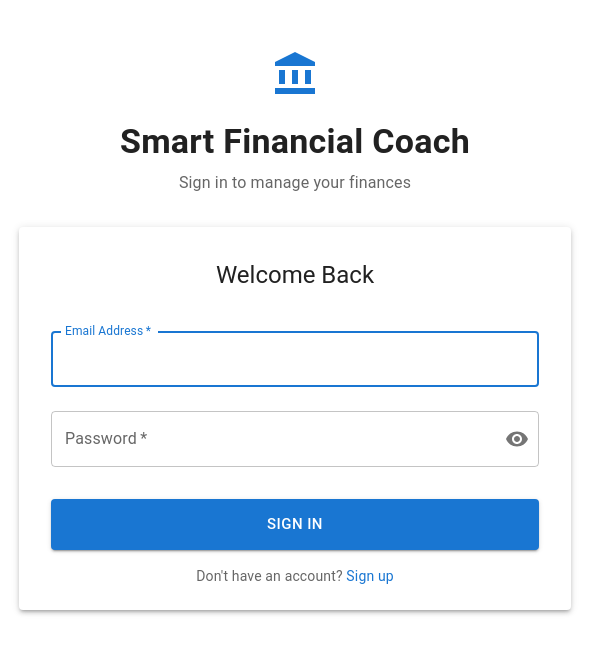
Login Component › displays error message on login failure
Type "wrong@example.com" into the field labelled "Email Address *" at point(295, 359), box x1=51 y1=331 x2=539 y2=387
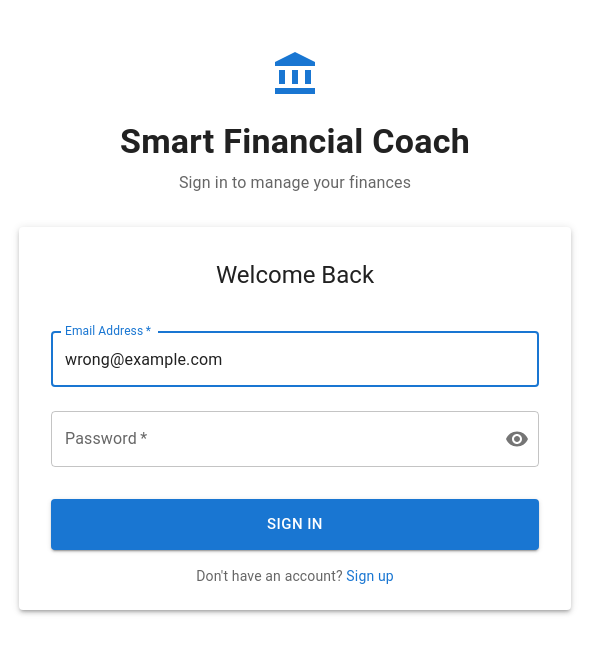
Type "wrongpassword" into the password field labelled "Password *" at point(270, 439), box x1=51 y1=411 x2=489 y2=467
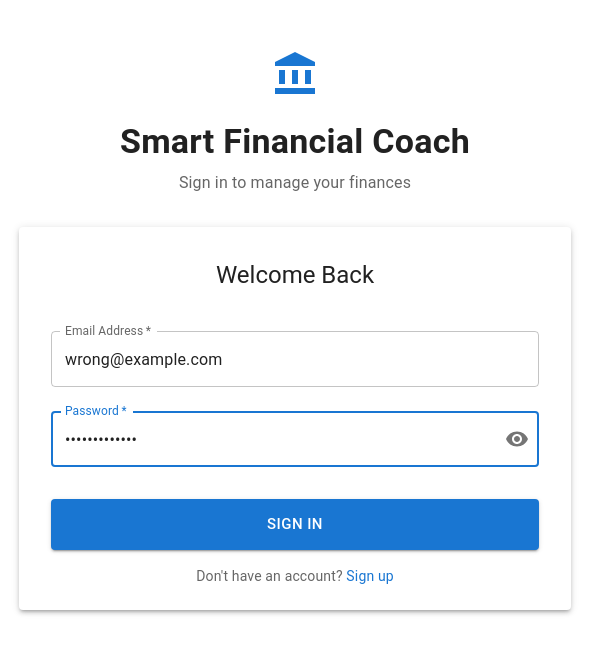
Click the button "Sign In" at point(295, 525), box x1=51 y1=499 x2=539 y2=550
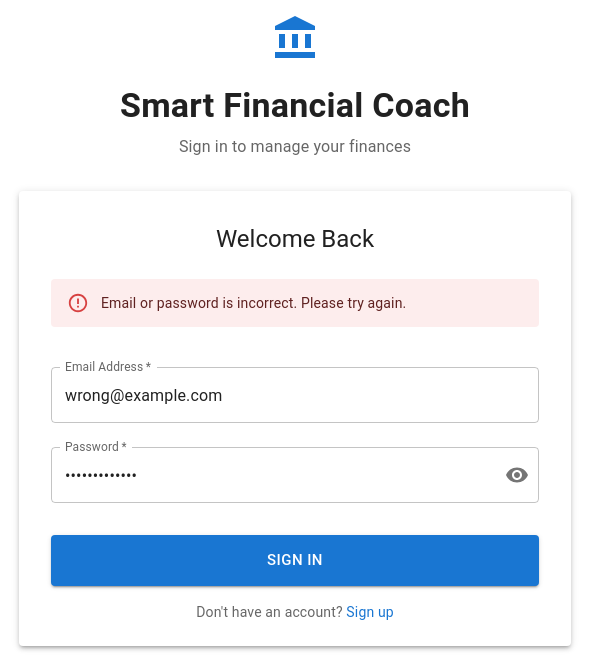
Expected: the text "Email or password is incorrect. Please try again." is shown, x1=101 y1=295 x2=406 y2=311
